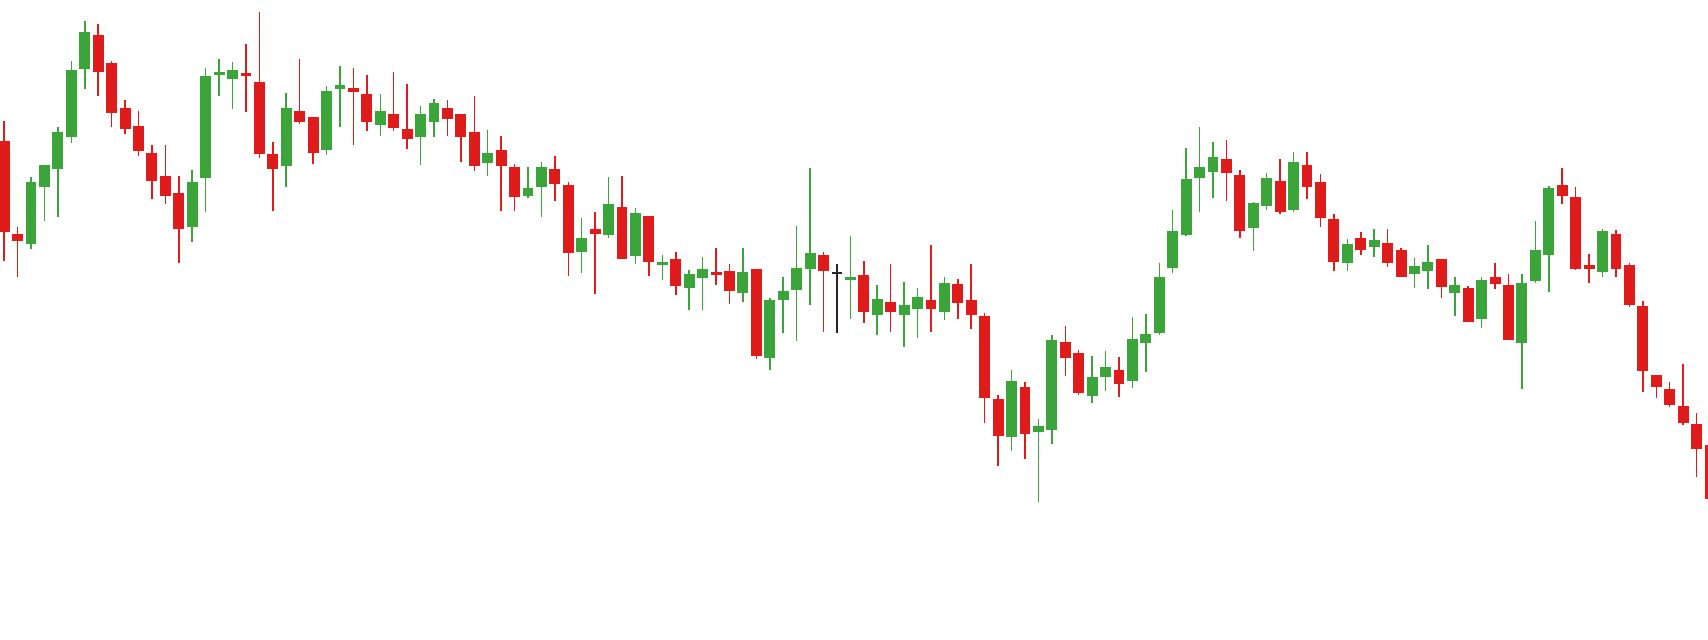buy: (38, 107, 199, 261)
